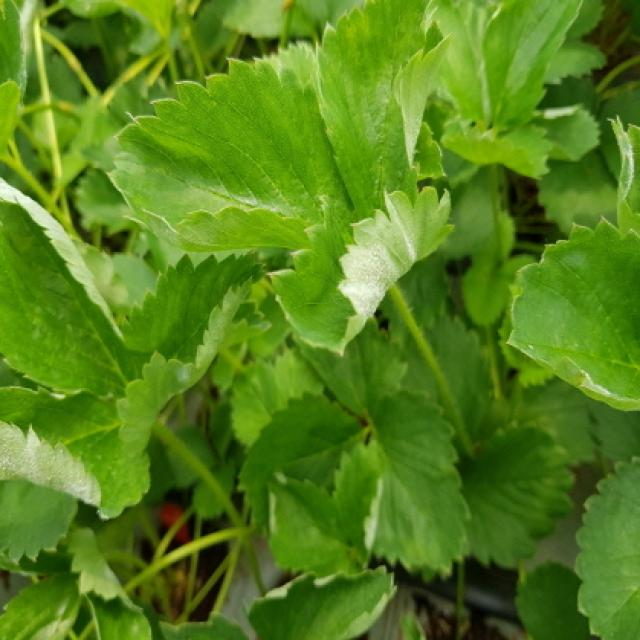Powdery Mildew Leaf: (116, 247, 288, 456), (262, 186, 459, 359), (2, 179, 143, 396), (312, 0, 454, 214), (504, 214, 640, 413), (2, 385, 151, 522), (266, 439, 385, 578)
